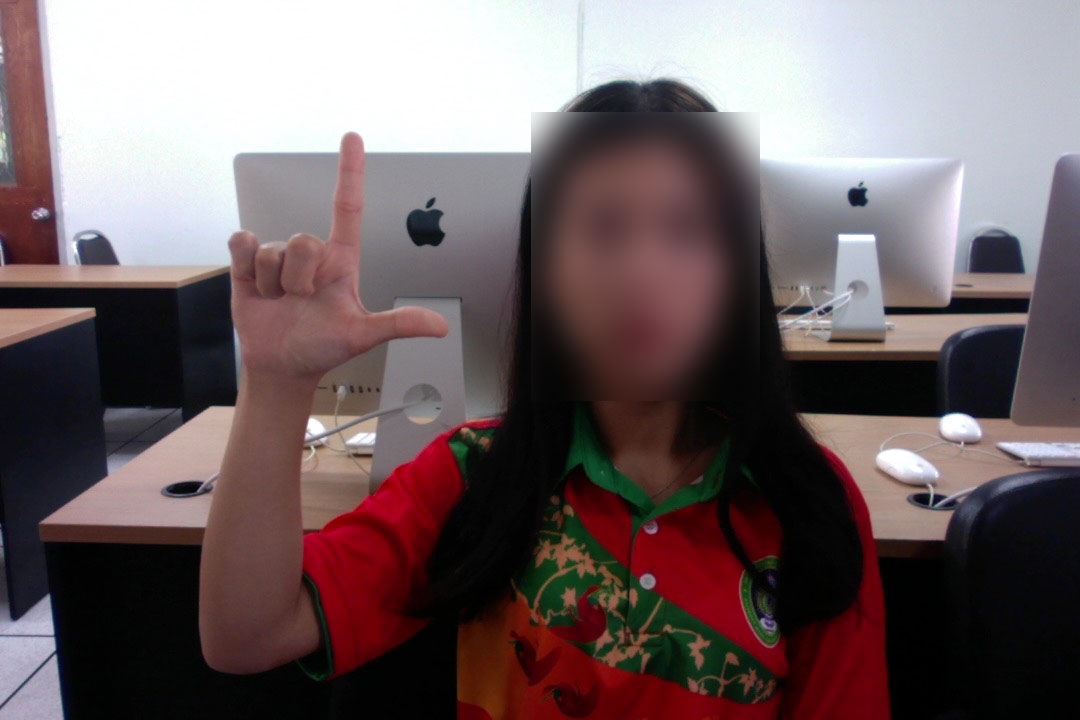lor: (212, 120, 457, 433)
